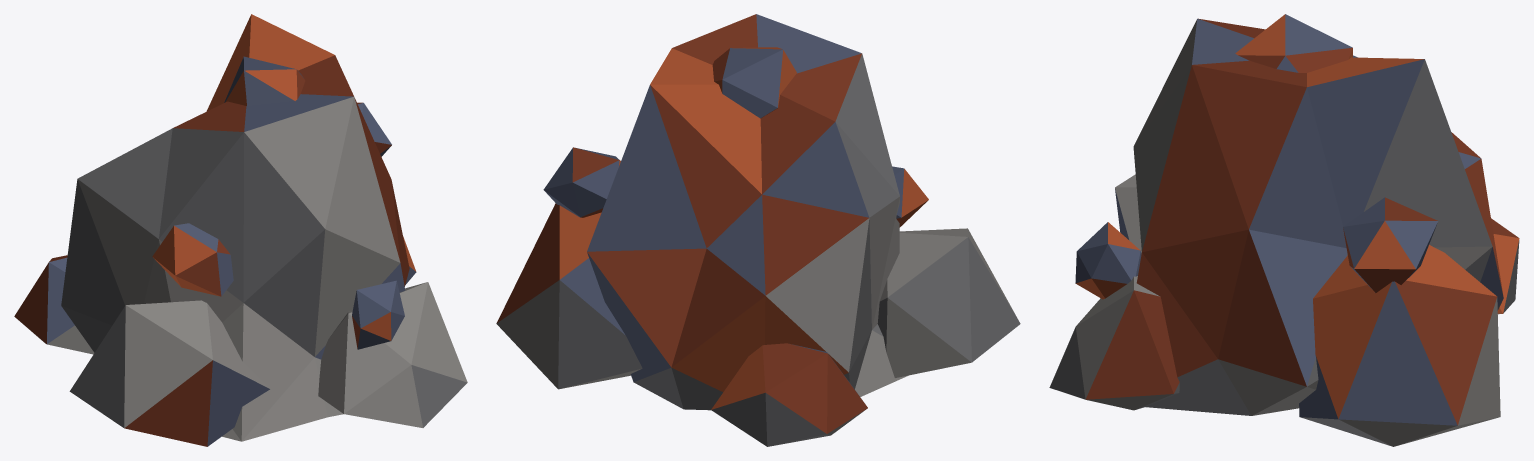
File: rock_b.glb
The picture shows the model from 3 angles, left to right: view 1: azimuth 30°, elevation 25°; view 2: azimuth 150°, elevation 25°; view 3: azimuth 270°, elevation 25°; orthographic projection. The views are drawn at different scales.
Visible parts, largest first — view 1: iron_ore_b; view 2: iron_ore_b; view 3: iron_ore_b.
Part boxes in pixels (x1,y1,x2,y2): iron_ore_b: (14, 14, 467, 446); iron_ore_b: (496, 14, 1020, 446); iron_ore_b: (1049, 14, 1519, 446).
Bounding box in the file's own units: 1.16 × 0.8511 × 1.09.
